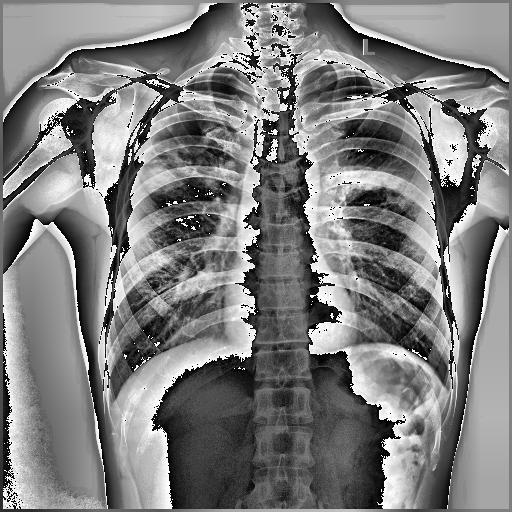13- Pulmonary fibrosis: (132, 118, 235, 198), (140, 114, 236, 192), (324, 163, 405, 190)
4- Consolidation: (324, 163, 405, 190), (142, 164, 178, 188)
6- Infiltration: (132, 118, 235, 198), (140, 114, 236, 192), (141, 121, 233, 192), (324, 162, 412, 206), (326, 162, 402, 196)
